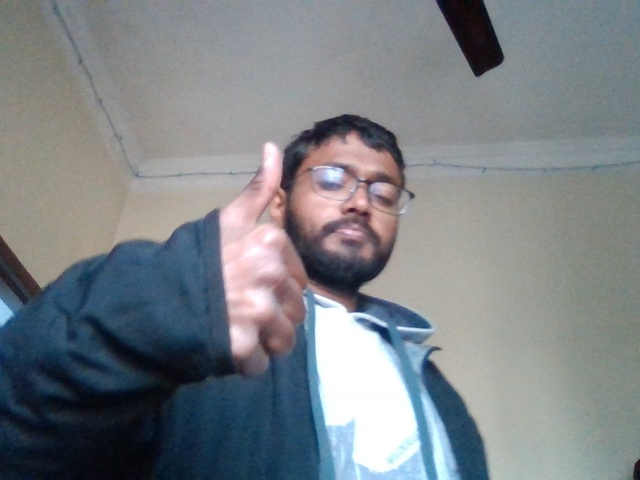good: (210, 119, 298, 368)
